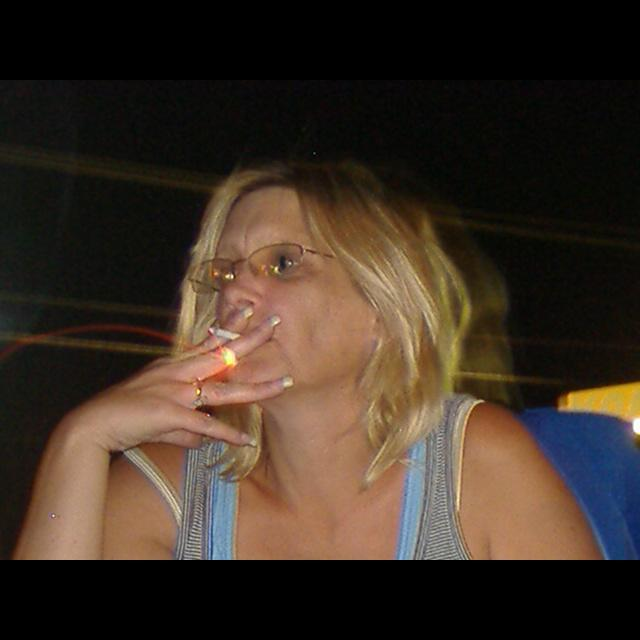rokok: (205, 322, 242, 342)
